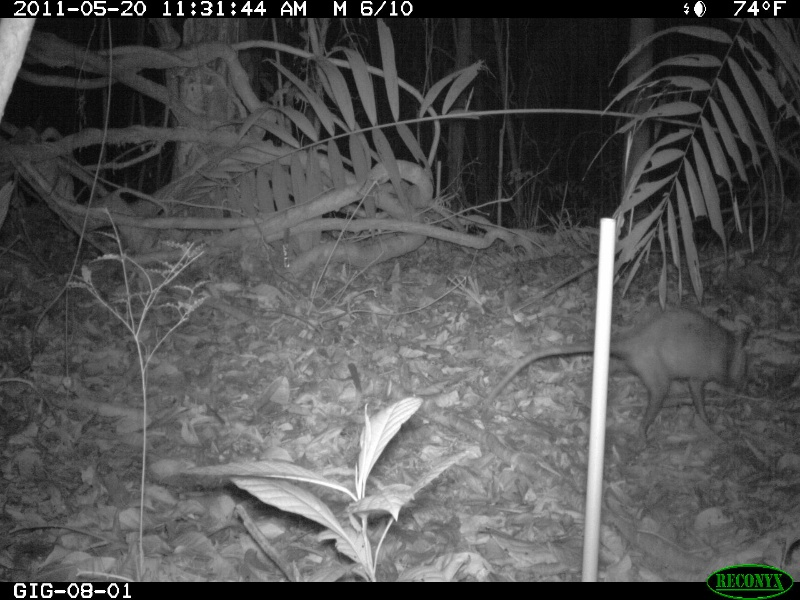opossum: (479, 306, 751, 444)
